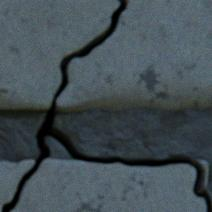broken_brick: (55, 0, 211, 112), (0, 0, 118, 111), (12, 160, 204, 211), (0, 161, 33, 211), (191, 161, 206, 188)
crack: (1, 0, 211, 211)
